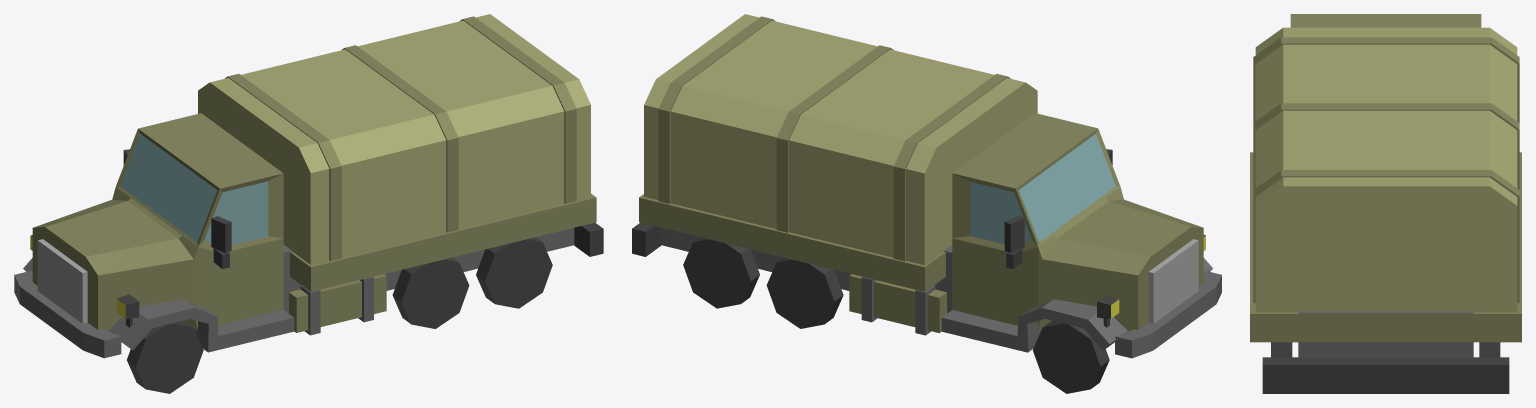
The model's file is low_poly_military_truck.glb.
3 renders of one model, left to right at view 1: azimuth 30°, elevation 25°; view 2: azimuth 150°, elevation 25°; view 3: azimuth 270°, elevation 25°, orthographic. The views are drawn at different scales.
Parts seen in each view (by area): view 1: Cube.004; view 2: Cube.004; view 3: Cube.004.
Part boxes in pixels (x1=…): Cube.004: x1=14, y1=14, x2=603, y2=393; Cube.004: x1=632, y1=14, x2=1221, y2=393; Cube.004: x1=1250, y1=14, x2=1521, y2=393.
Bounding box in the file's own units: 1085 × 437 × 442.
